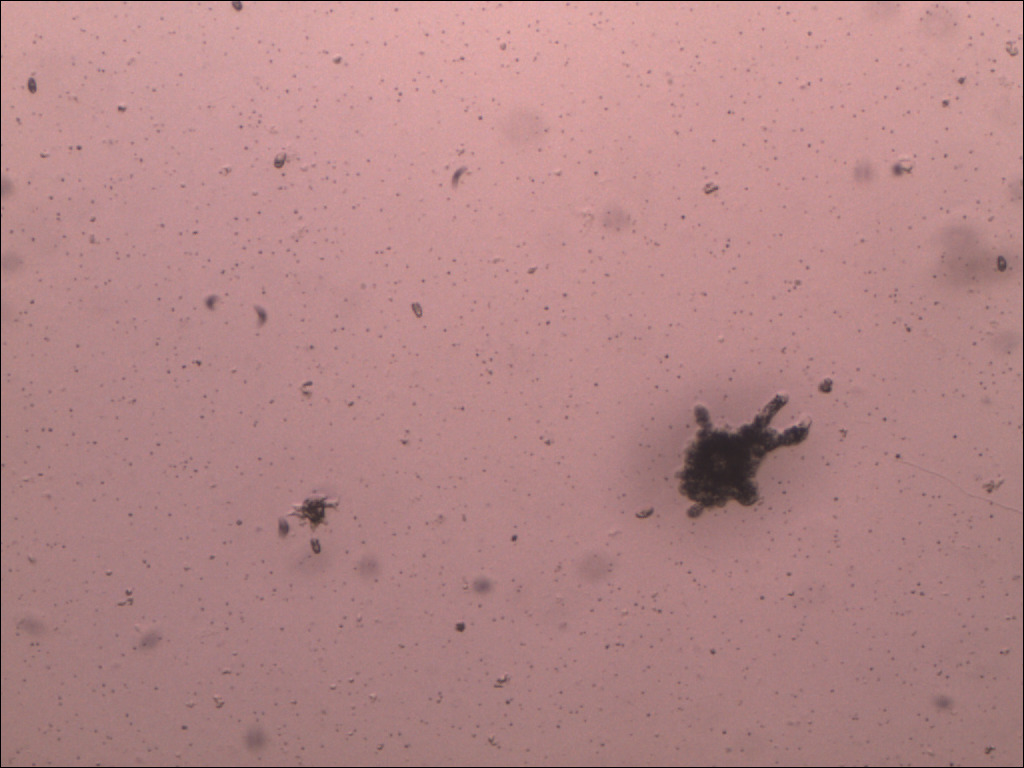amoeba: (653, 372, 831, 535), (262, 484, 357, 565)
